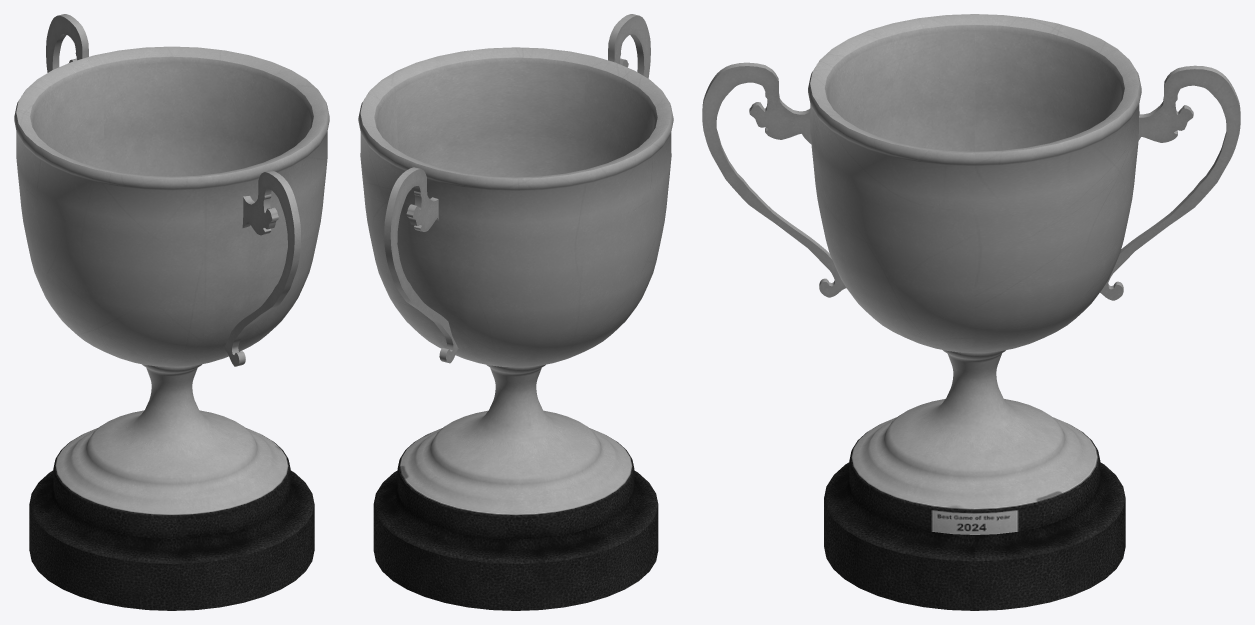
Rendered from AFA_LPF.glb.
3 views of the same model, side by side, from view 1: azimuth 30°, elevation 25°; view 2: azimuth 150°, elevation 25°; view 3: azimuth 270°, elevation 25° (orthographic). The views are drawn at different scales.
Parts seen in each view (by area): view 1: Trophy, Hangle (×2); view 2: Trophy, Hangle (×2); view 3: Trophy, Hangle (×2).
Boxes of the visible parts, left/top/right/bottom form: Trophy: left=14, top=46, right=329, bottom=610; Hangle (×2): left=46, top=14, right=300, bottom=366; Trophy: left=358, top=47, right=673, bottom=610; Hangle (×2): left=384, top=14, right=650, bottom=363; Trophy: left=808, top=14, right=1141, bottom=610; Hangle (×2): left=702, top=62, right=1240, bottom=300.
Size of the model in its own units: 160 by 254 by 258.
1 material, 1 textured.
